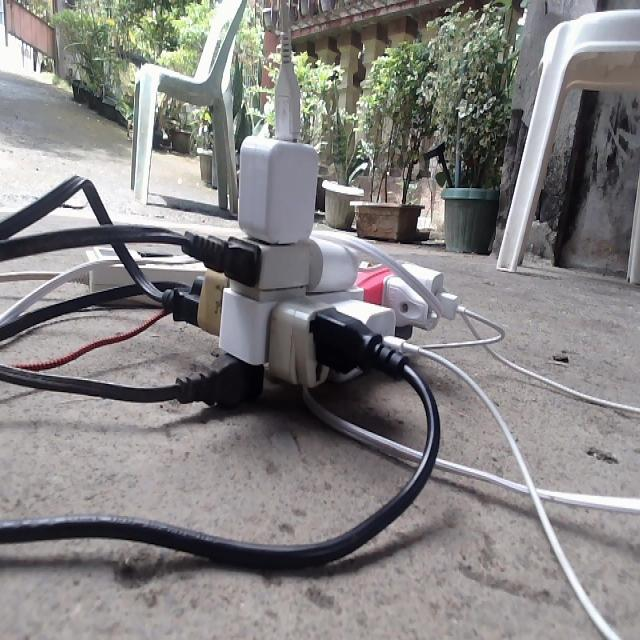-: (101, 24, 514, 488)
